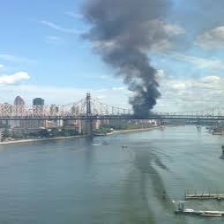smoke: (89, 1, 167, 114)
